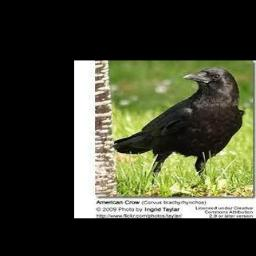Crow: (112, 66, 246, 197)
